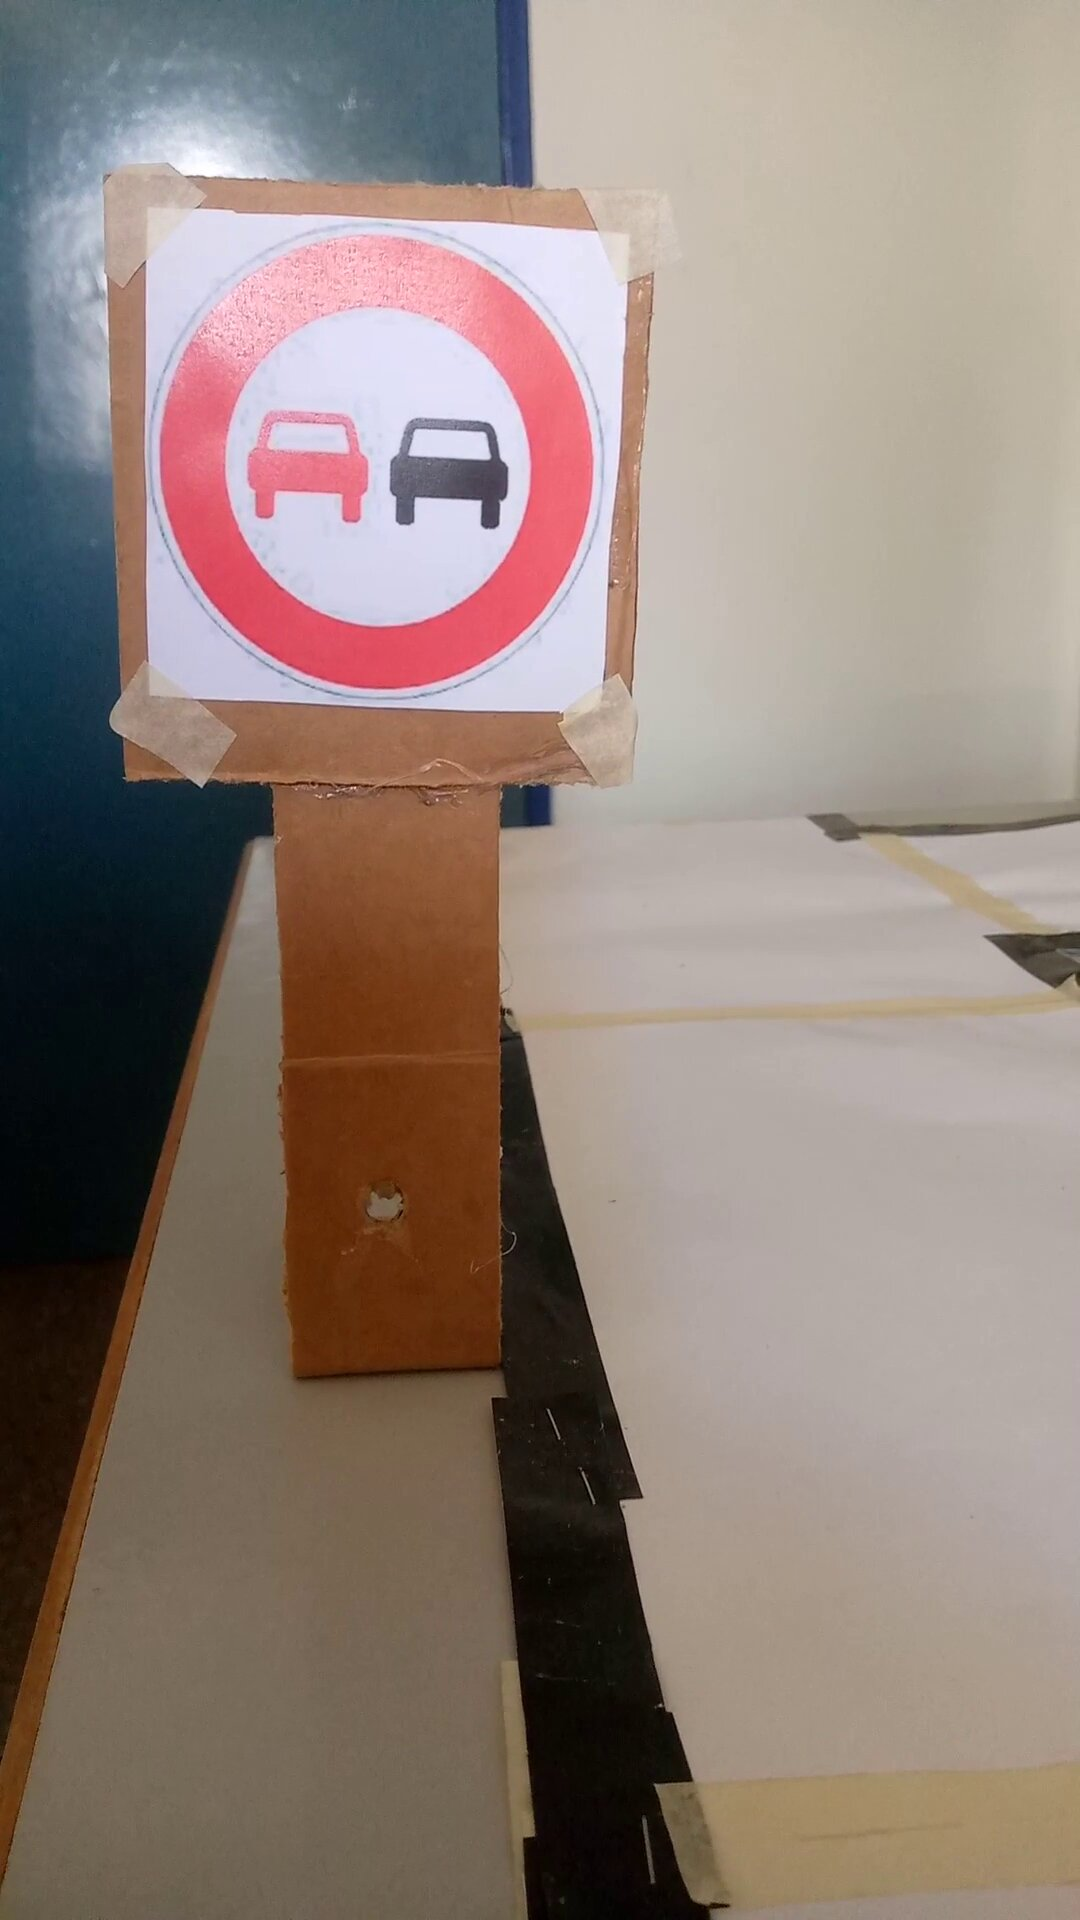panel100: (150, 208, 615, 717)
